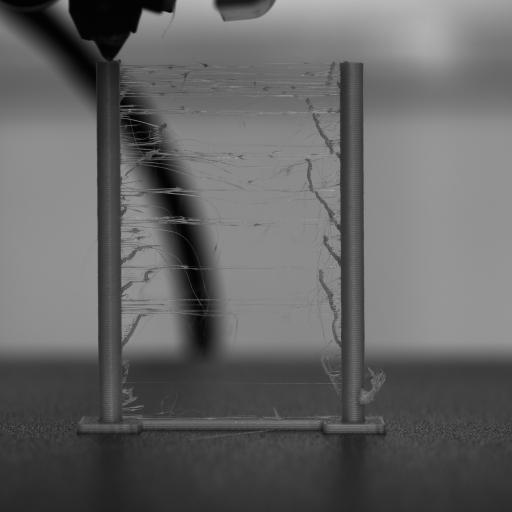spaghetti_and_stringing: (119, 56, 343, 416)
